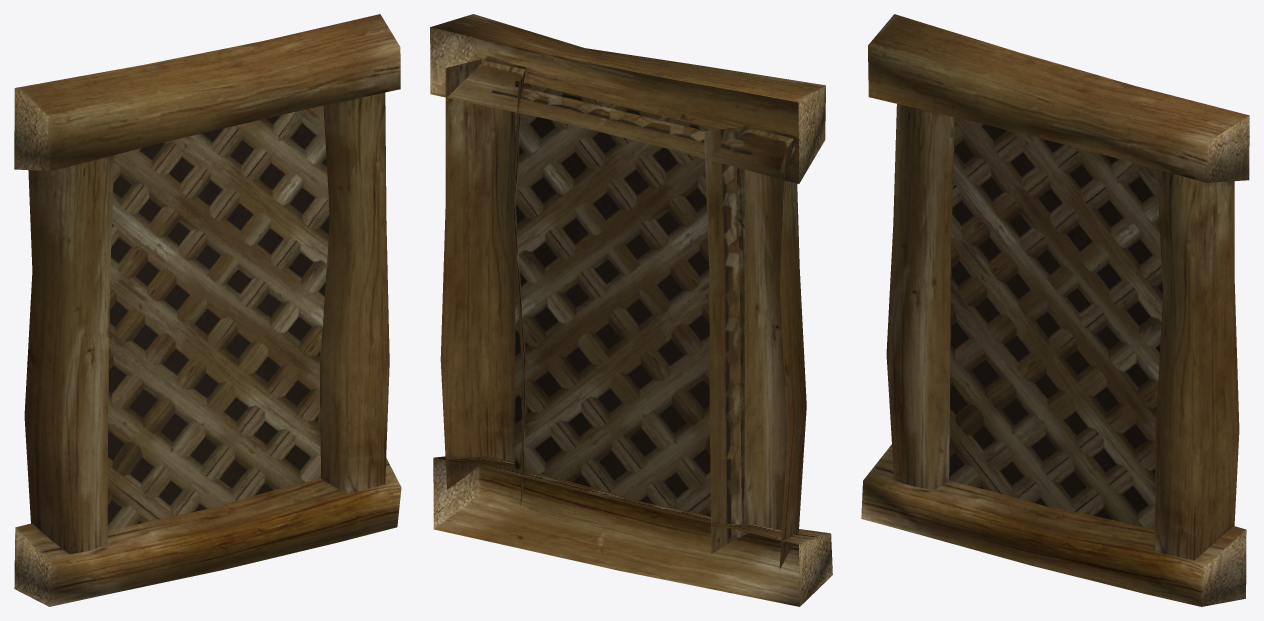
File: WoodWindow.fbx
3 views of the same model, side by side, from view 1: azimuth 30°, elevation 25°; view 2: azimuth 150°, elevation 25°; view 3: azimuth 330°, elevation 25° (orthographic). The views are drawn at different scales.
Visible parts, largest first — view 1: LV_Common_Structure_WoodWindow01_SM_PYO; view 2: LV_Common_Structure_WoodWindow01_SM_PYO; view 3: LV_Common_Structure_WoodWindow01_SM_PYO.
Boxes of the visible parts, bbox=[...] form: LV_Common_Structure_WoodWindow01_SM_PYO: bbox=[14, 14, 401, 606]; LV_Common_Structure_WoodWindow01_SM_PYO: bbox=[430, 14, 832, 606]; LV_Common_Structure_WoodWindow01_SM_PYO: bbox=[861, 14, 1249, 606].
Bounding box in the file's own units: 21.99 × 29.4 × 3.76.
